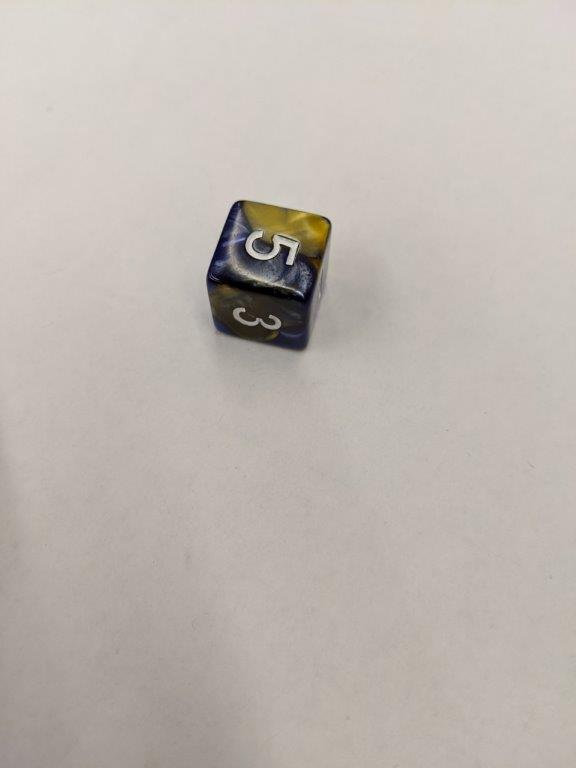d6-5: (205, 197, 333, 350)
